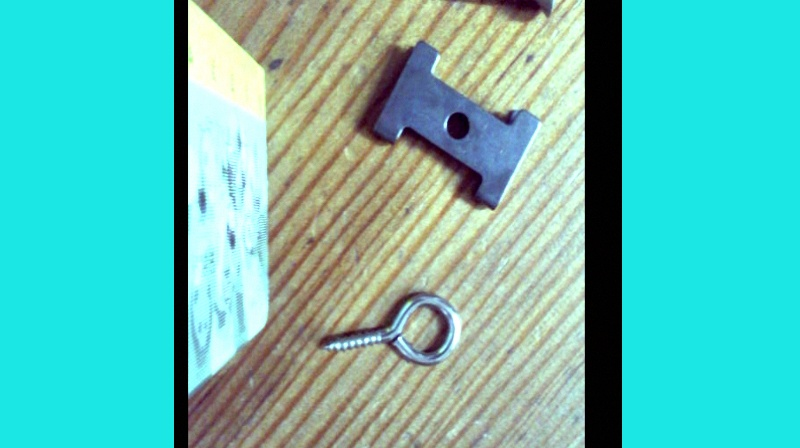O001: (314, 287, 460, 367)
O002: (367, 38, 542, 215)
S001: (391, 0, 561, 20)
